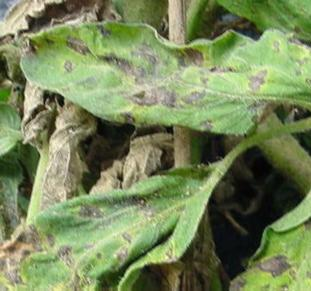Tomato leaf late blight: (11, 26, 311, 136), (0, 162, 219, 291), (174, 125, 311, 291)
